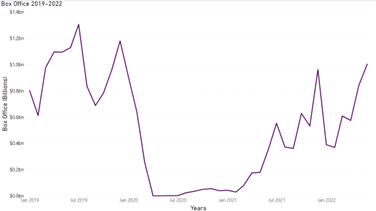

The page's visual inventory and layout, read from the dashboard file:
{"tool":"powerbi","page":{"name":"Box Office 2019-2022","canvas":[1280,720],"ordinal":0},"visuals":[{"type":"lineChart","title":"Box Office 2019-2022","fields":{"Y":["Sum(Daily_box_office.Box_office)"],"Category":["Daily_box_office.Date.Variation.Date Hierarchy.Year","Daily_box_office.Date.Variation.Date Hierarchy.Quarter","Daily_box_office.Date.Variation.Date Hierarchy.Month","Daily_box_office.Date.Variation.Date Hierarchy.Day"]},"box":[0,0,1280,720.4],"z":0}]}

Visuals, with their boxes in screenshot pixels (x1, y1, x2, y2), scaled from the page's 1280x720 canvas onto the 376x211 screenshot:
"Box Office 2019-2022" lineChart: pyautogui.locateOnScreen(0, 0, 375, 210)
